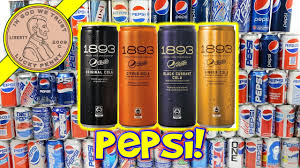can: (193, 14, 252, 143), (77, 22, 114, 141), (119, 12, 155, 132), (159, 27, 193, 132)
